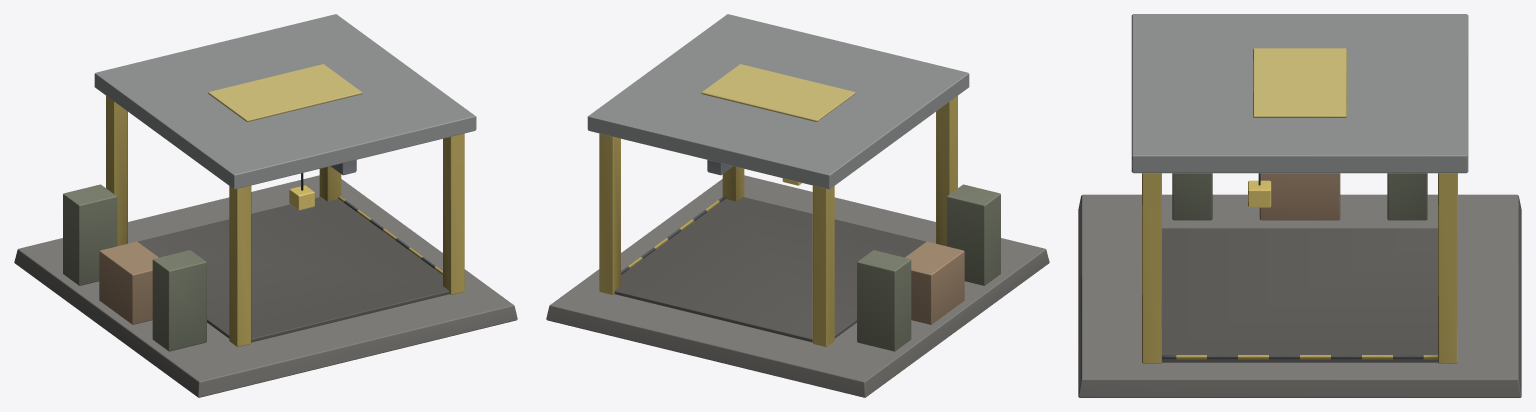
Rendered from repair_depot.glb.
3 renders of one model, left to right at view 1: azimuth 30°, elevation 25°; view 2: azimuth 150°, elevation 25°; view 3: azimuth 270°, elevation 25°, orthographic. The views are drawn at different scales.
Visible parts, largest first — view 1: Body; view 2: Body; view 3: Body.
Boxes of the visible parts, bbox=[...] form: Body: bbox=[14, 14, 517, 397]; Body: bbox=[546, 14, 1049, 397]; Body: bbox=[1078, 14, 1521, 397].
Bounding box in the file's own units: 6.59 × 3.85 × 6.59.
